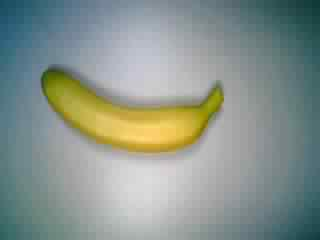banana: (39, 65, 225, 155)
